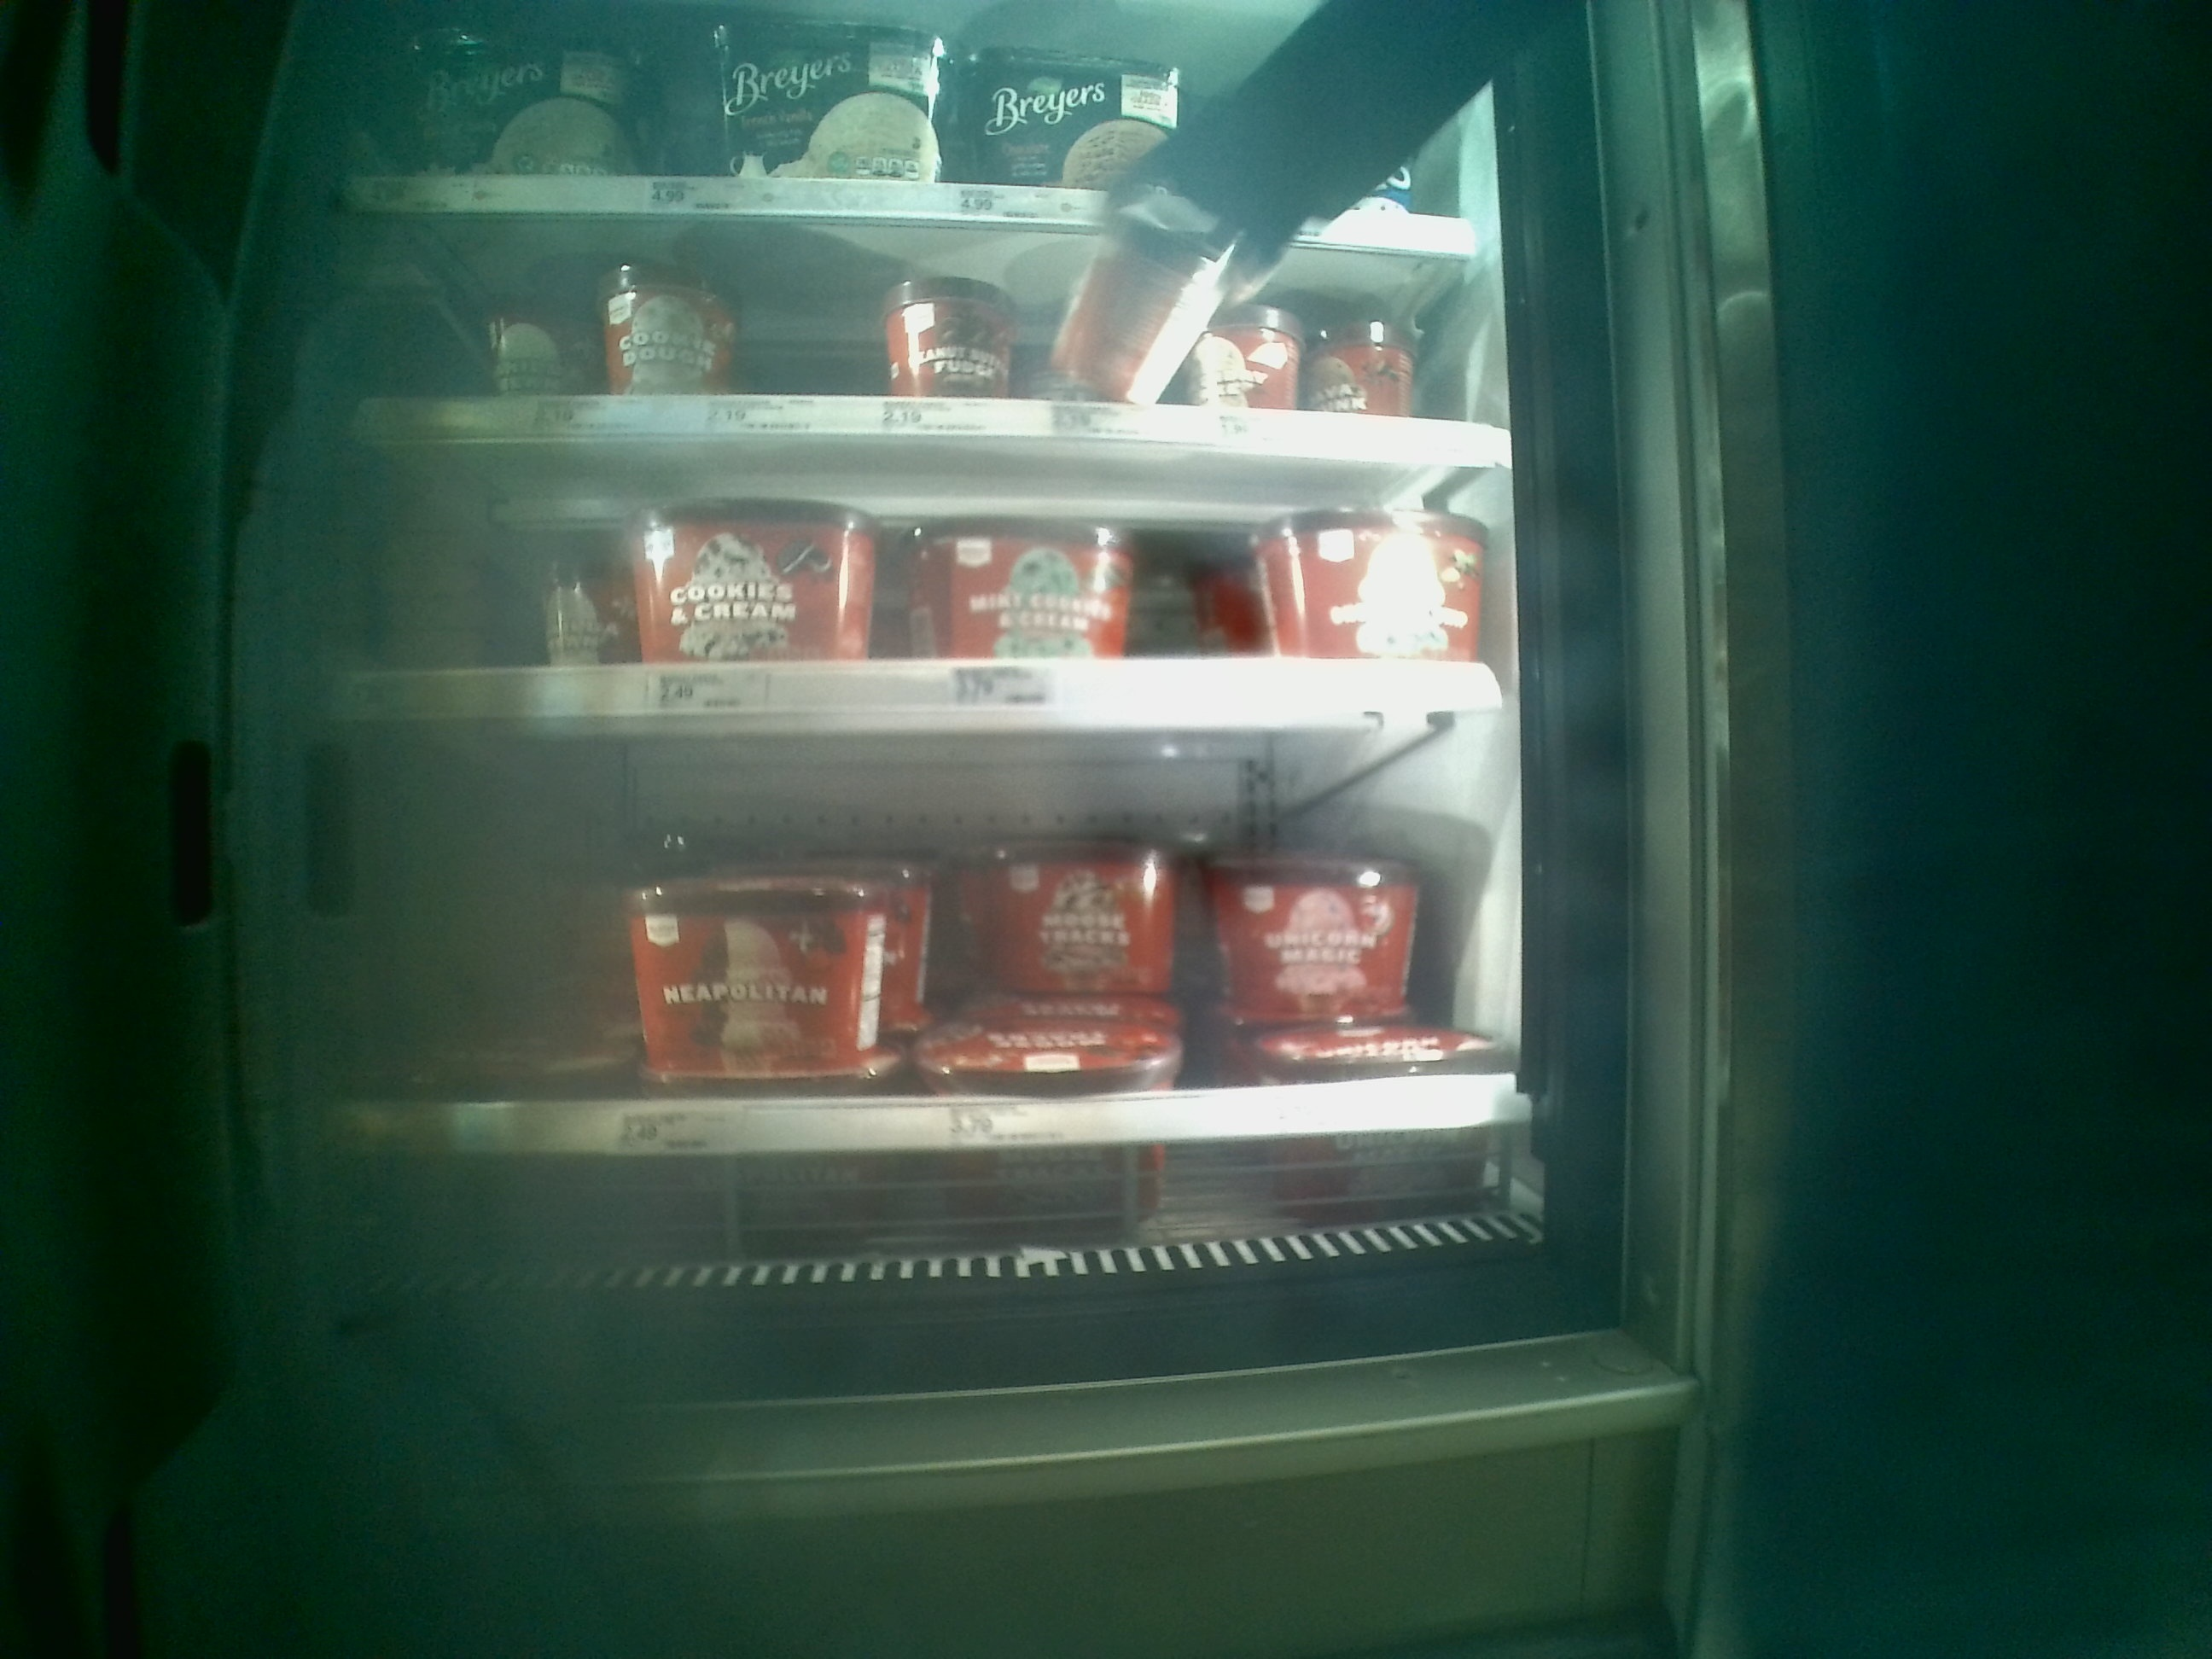ice-cream-shelf: (320, 723, 1541, 1178), (334, 437, 1503, 727)
